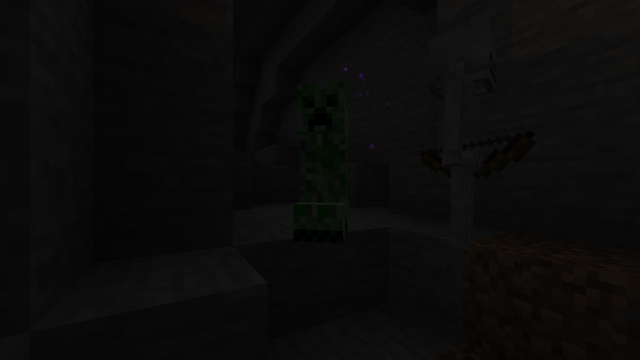creepers: (289, 69, 361, 243)
squelettes: (417, 15, 512, 254)
